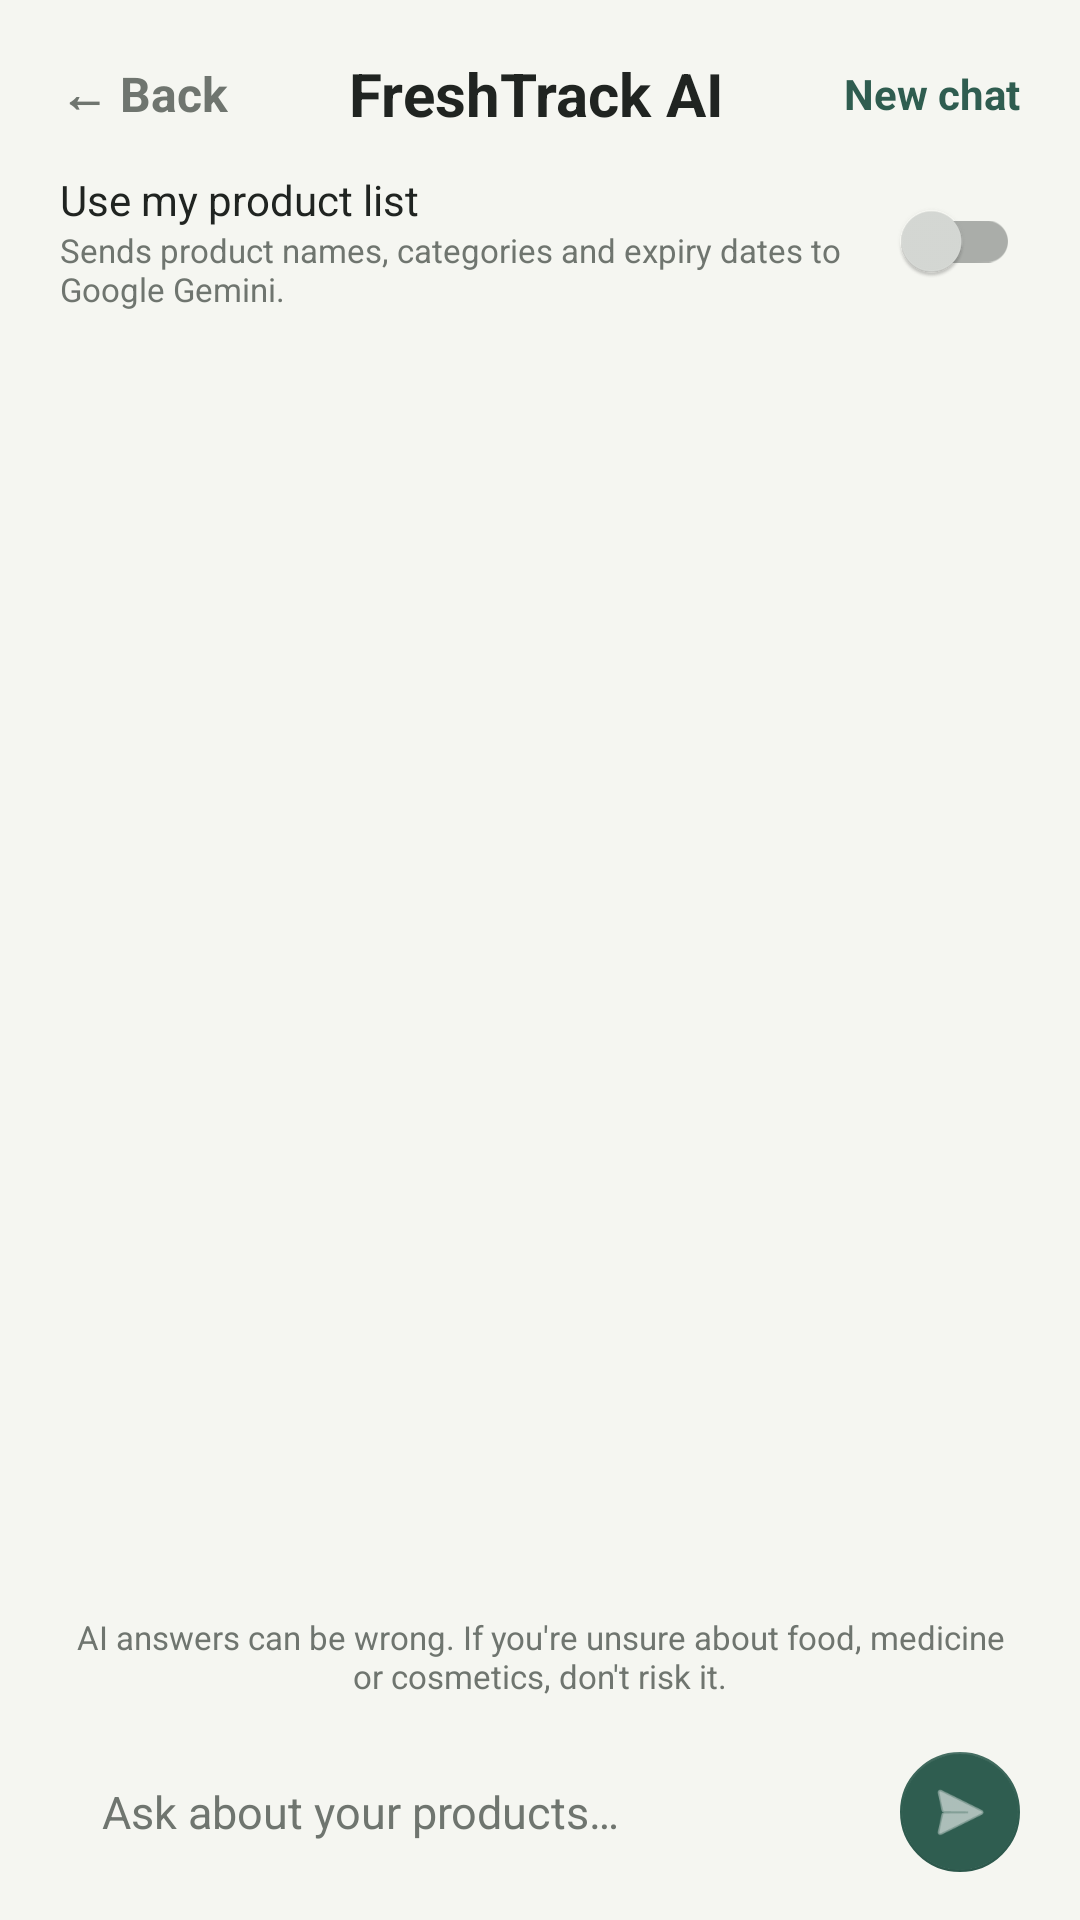

Where to tap for icons on this 1080px×1920px app screen, as (x=x, y=y):
Send message: (x=960, y=1812)
